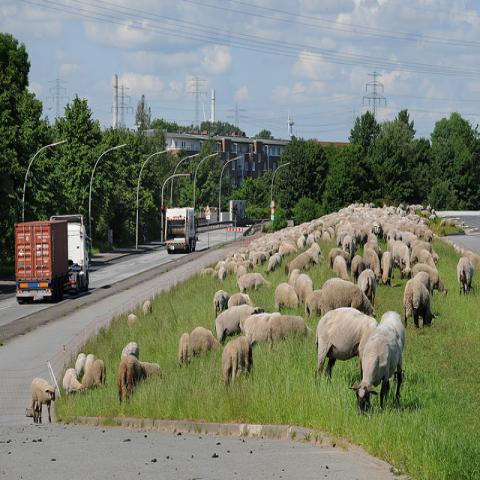truck: (14, 215, 92, 301), (164, 206, 198, 255)
